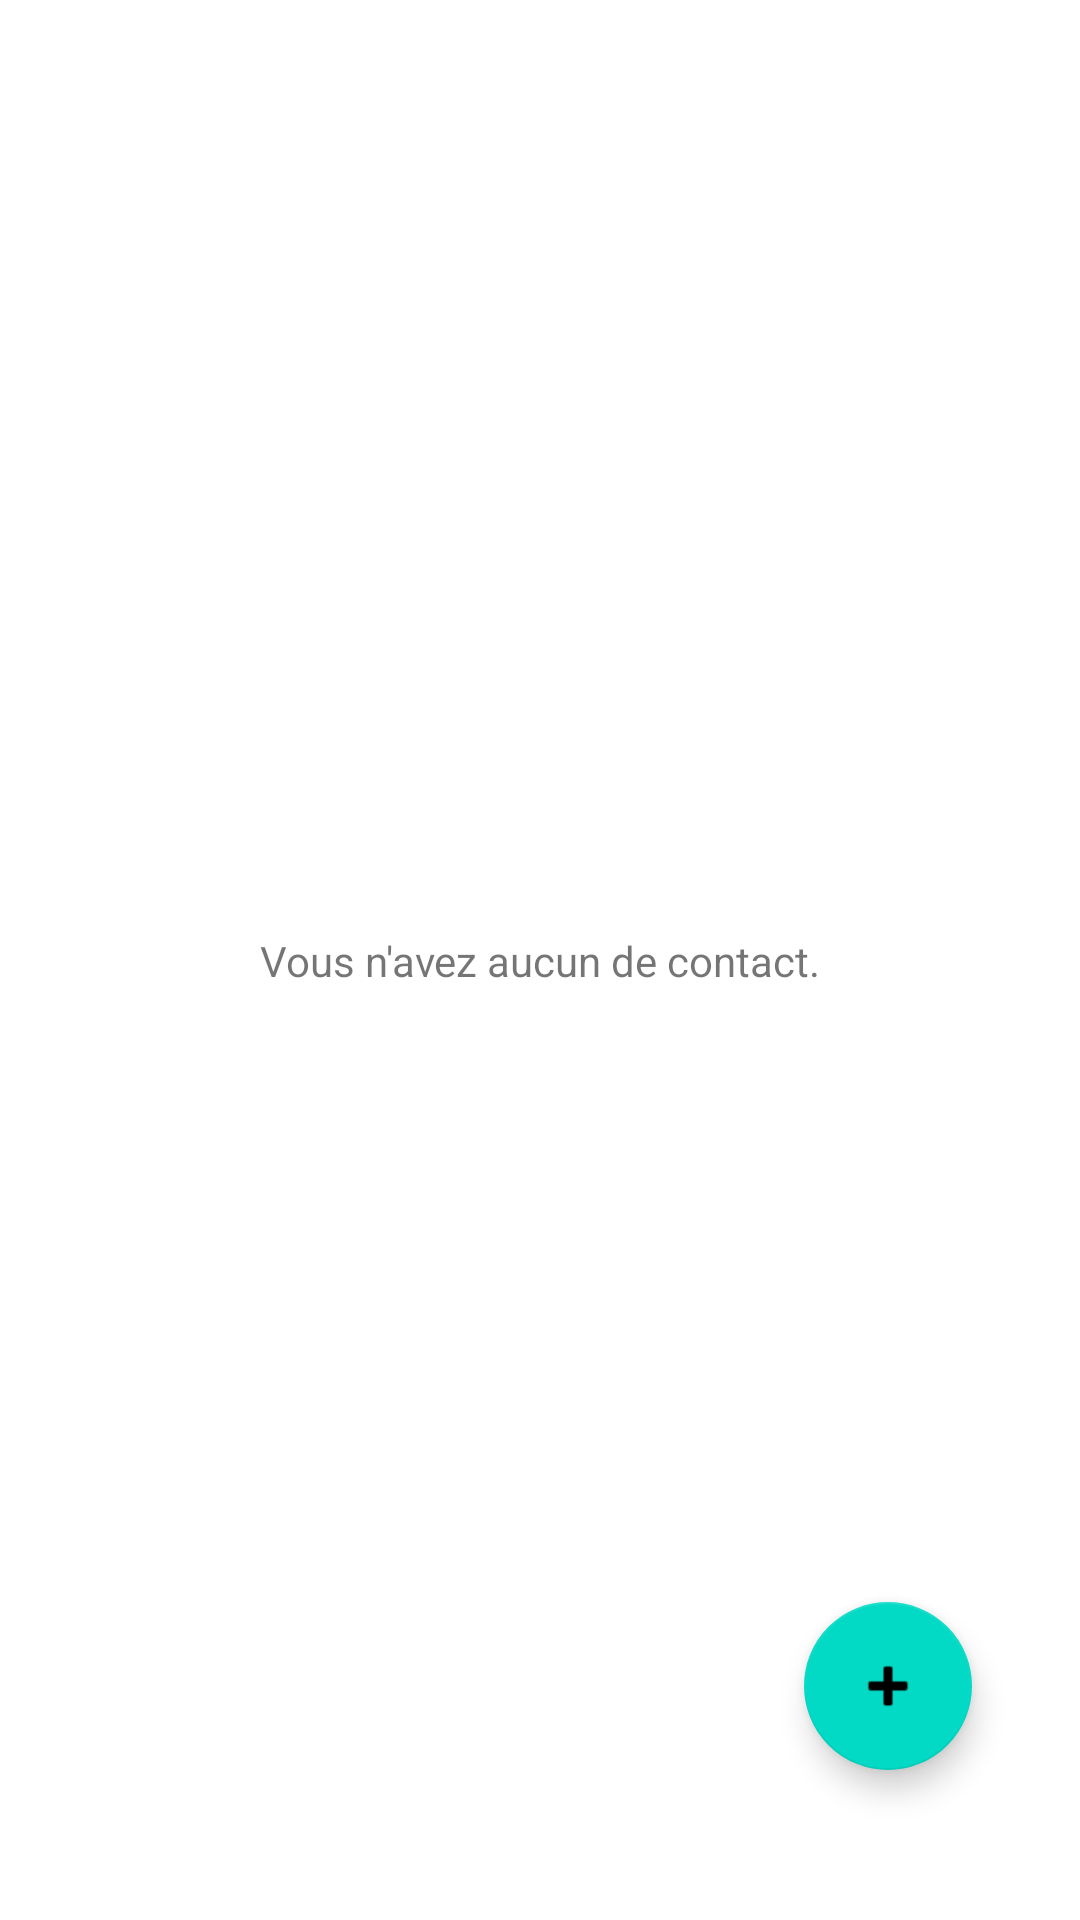

Icon bounding boxes for this 1080*1920 phone screenshot, format [x1, y1, x2, y2]:
add: [804, 1602, 972, 1770]
